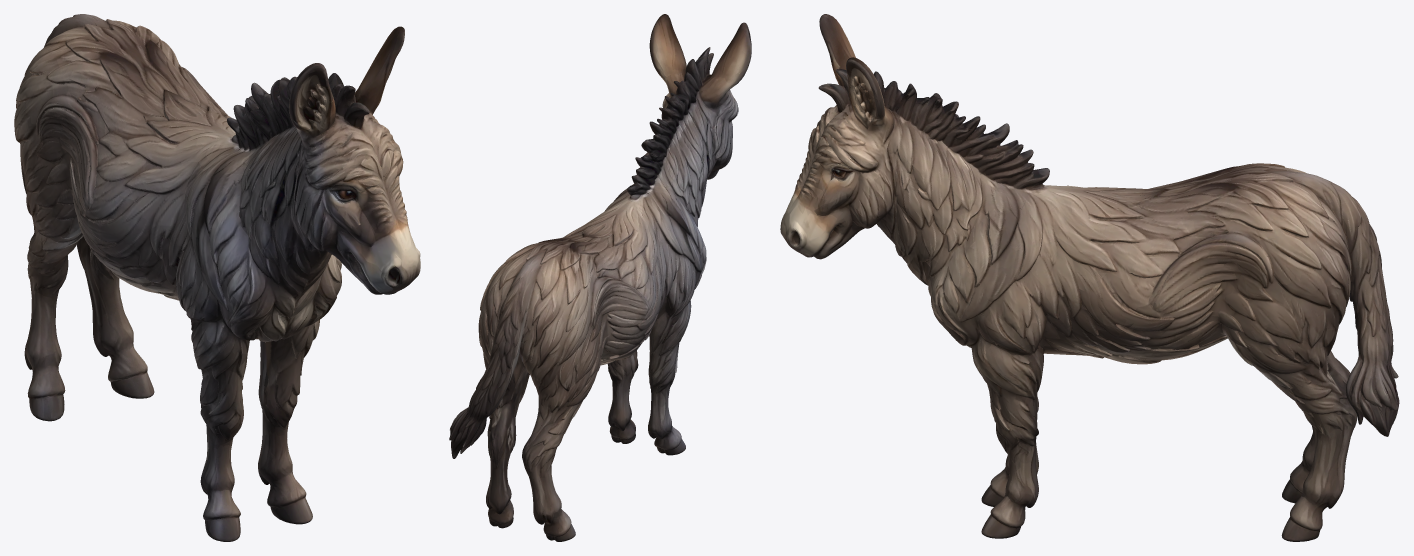
Rendered from Donkey.glb.
The picture shows the model from 3 angles, left to right: view 1: azimuth 30°, elevation 25°; view 2: azimuth 150°, elevation 25°; view 3: azimuth 270°, elevation 25°; orthographic projection. The views are drawn at different scales.
Parts seen in each view (by area): view 1: output_unwrapped; view 2: output_unwrapped; view 3: output_unwrapped.
Part boxes in pixels (box(x1,y1,x2,y2)): output_unwrapped: box(14, 14, 420, 541); output_unwrapped: box(449, 14, 751, 541); output_unwrapped: box(780, 14, 1399, 541).
Size of the model in its own units: 0.545 by 1.64 by 1.9.
1 material, 1 textured.
